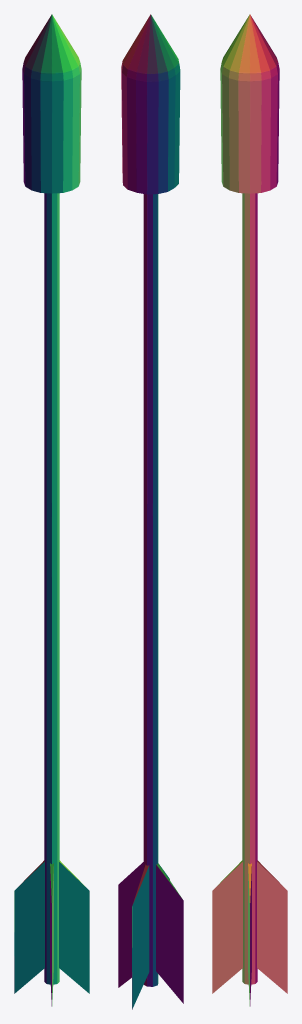
Rendered from ImpactExplosionArrowHULL.obj.
3 renders of one model, left to right at view 1: azimuth 90°, elevation 25°; view 2: azimuth 150°, elevation 25°; view 3: azimuth 270°, elevation 25°, orthographic.
Parts seen in each view (by area): view 1: Cube_Cube.001; view 2: Cube_Cube.001; view 3: Cube_Cube.001.
Part boxes in pixels (left/top/right/bottom): Cube_Cube.001: left=14, top=14, right=89, bottom=1006; Cube_Cube.001: left=118, top=14, right=183, bottom=1009; Cube_Cube.001: left=212, top=14, right=287, bottom=1006.
Bounding box in the file's own units: 0.0415 × 0.5954 × 0.0415.
